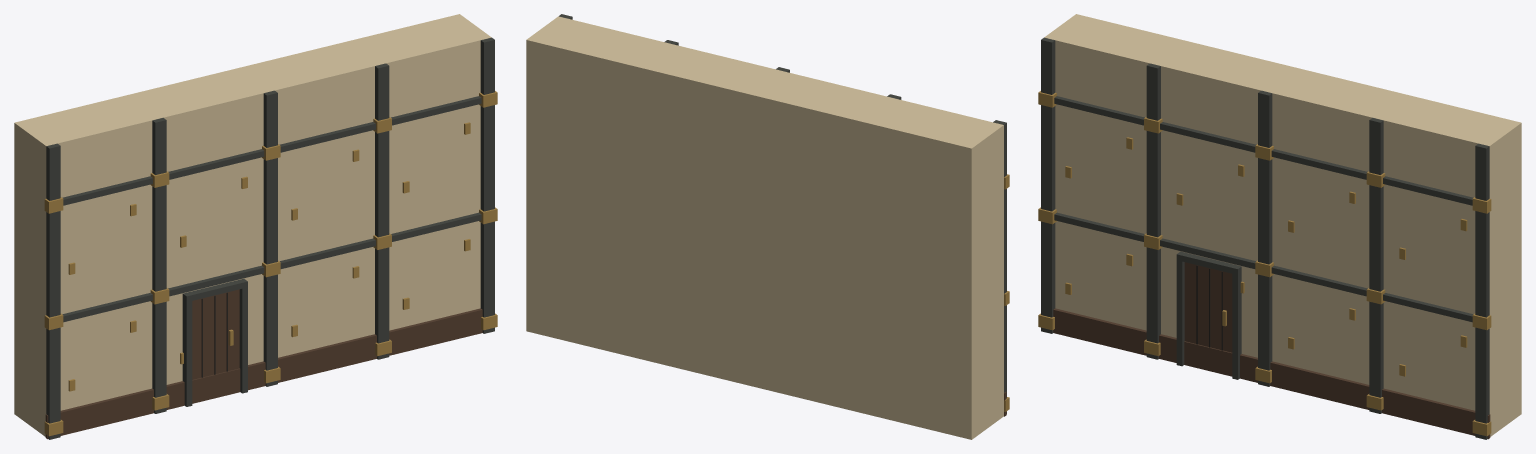
The model's file is retaining_c.glb.
3 views of the same model, side by side, from view 1: azimuth 30°, elevation 25°; view 2: azimuth 150°, elevation 25°; view 3: azimuth 330°, elevation 25° (orthographic).
Visible parts, largest first — view 1: retaining_c; view 2: retaining_c; view 3: retaining_c.
Boxes of the visible parts, x1,y1,x2,y2 form: retaining_c: (14, 14, 497, 439); retaining_c: (526, 14, 1009, 439); retaining_c: (1038, 14, 1521, 439).
Size of the model in its own units: 8.06 by 5 by 1.13.
